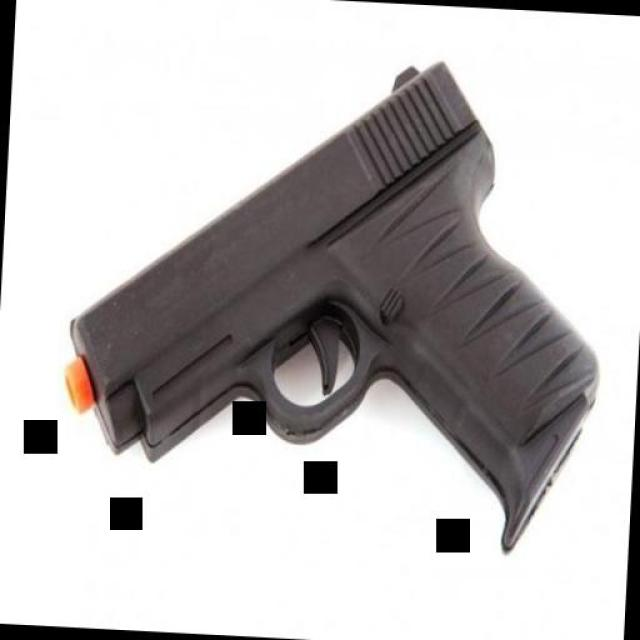gun: (43, 41, 616, 572)
